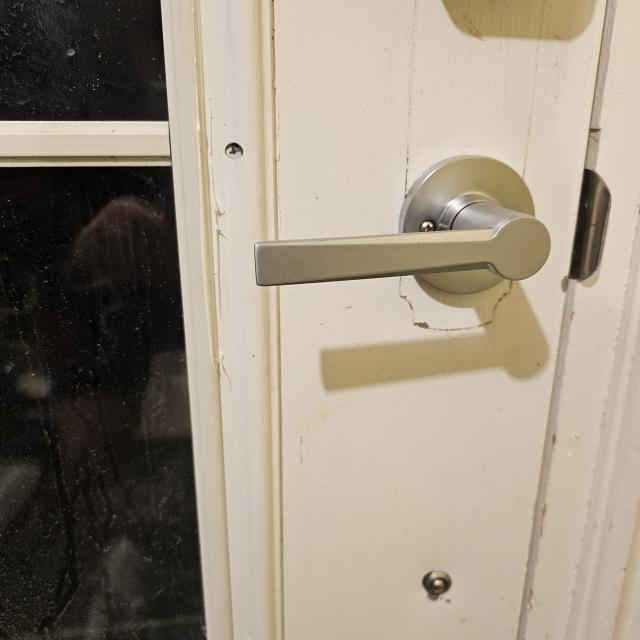door-handle: (255, 155, 550, 294)
